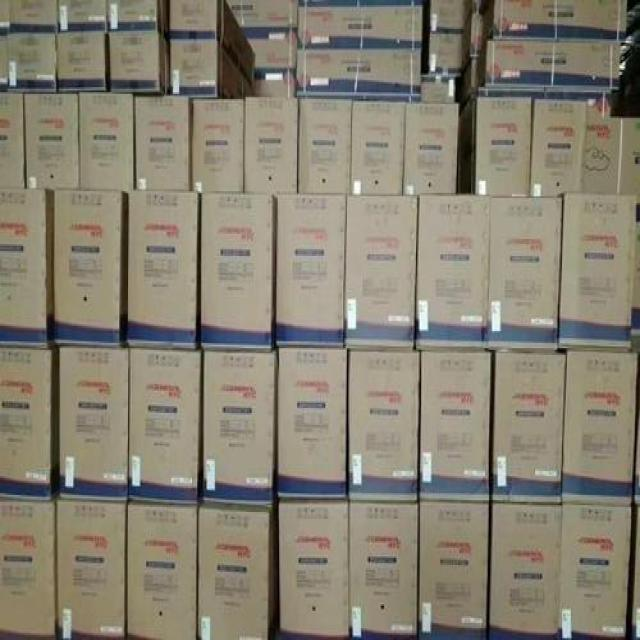box: (418, 335, 493, 511), (416, 192, 496, 354), (554, 186, 632, 352), (54, 344, 131, 508), (197, 347, 276, 506), (120, 189, 198, 349), (566, 339, 636, 508), (198, 496, 280, 640), (51, 184, 122, 350), (346, 338, 415, 508), (198, 190, 272, 347), (276, 338, 344, 508), (272, 194, 346, 348), (130, 340, 198, 507), (494, 342, 562, 509), (418, 492, 495, 637), (347, 495, 424, 640), (558, 504, 640, 640), (279, 497, 357, 638), (492, 202, 562, 358), (348, 198, 416, 354), (0, 335, 61, 504), (486, 500, 562, 633), (60, 496, 129, 640), (130, 498, 198, 640), (477, 37, 627, 100), (0, 494, 66, 634), (0, 182, 50, 346), (238, 92, 304, 200), (464, 98, 534, 194), (294, 93, 350, 204), (298, 48, 427, 96), (298, 0, 426, 48), (132, 94, 192, 192), (481, 0, 623, 41), (24, 94, 82, 192), (78, 94, 132, 198), (170, 0, 256, 65), (402, 100, 458, 198), (350, 103, 405, 200), (192, 93, 239, 201), (170, 36, 254, 96), (534, 97, 578, 200), (104, 32, 168, 92), (54, 31, 110, 94), (7, 32, 58, 96), (0, 93, 24, 184)
